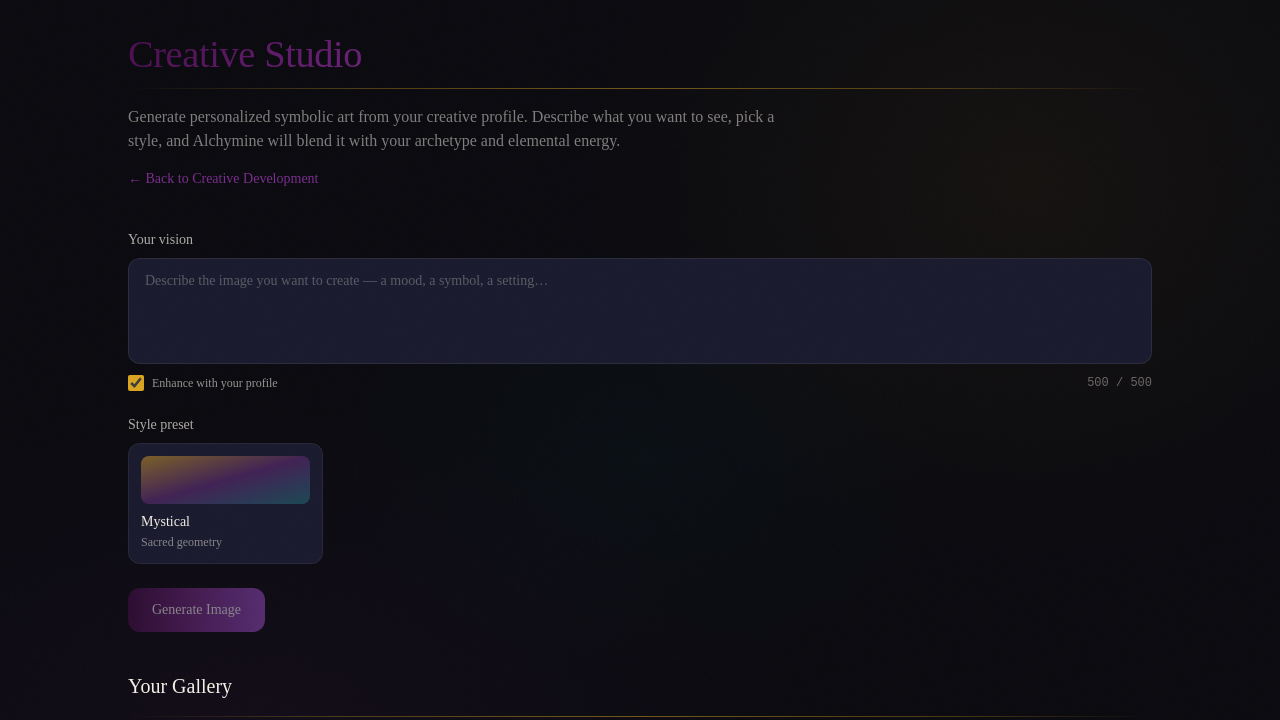
Test case: CreativeStudioPage daily cap › shows the cap message rather than a raw error
Replace the text in the text box labelled "Your vision" with "a quiet forest": x=640, y=311 [128, 258, 1152, 364]
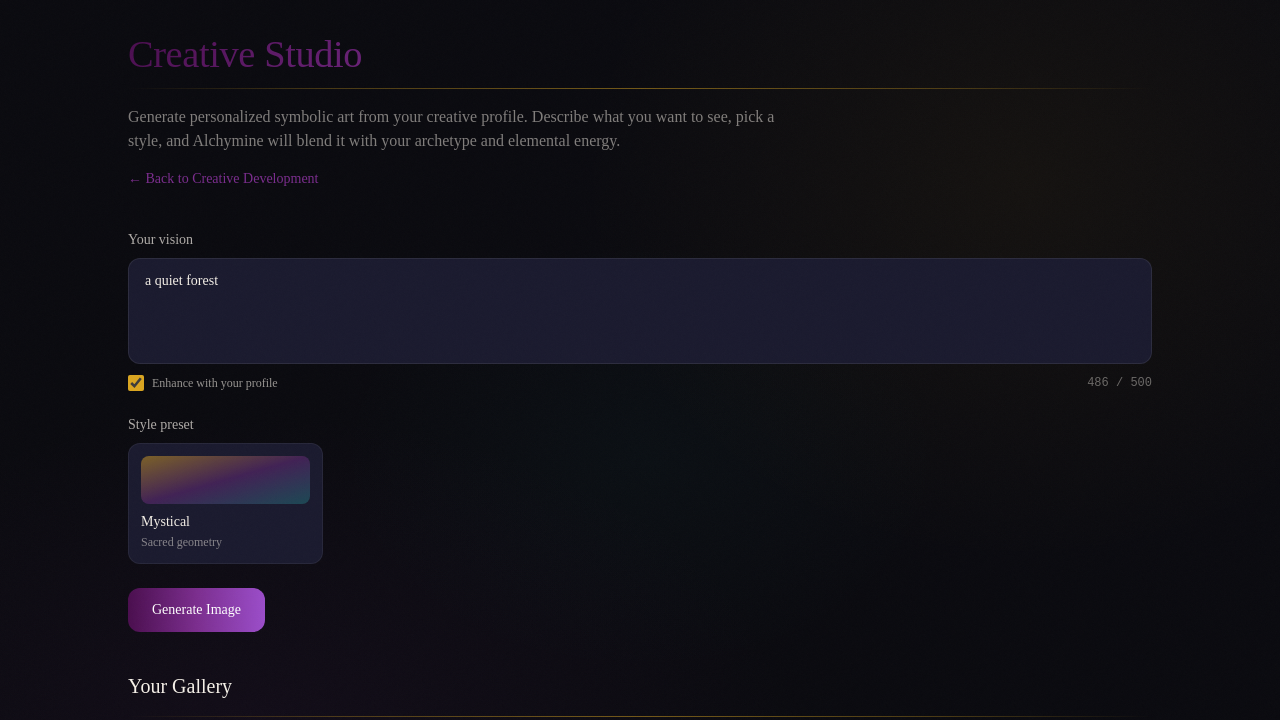
Click the button "Generate Image": x=196, y=610 [128, 588, 265, 632]
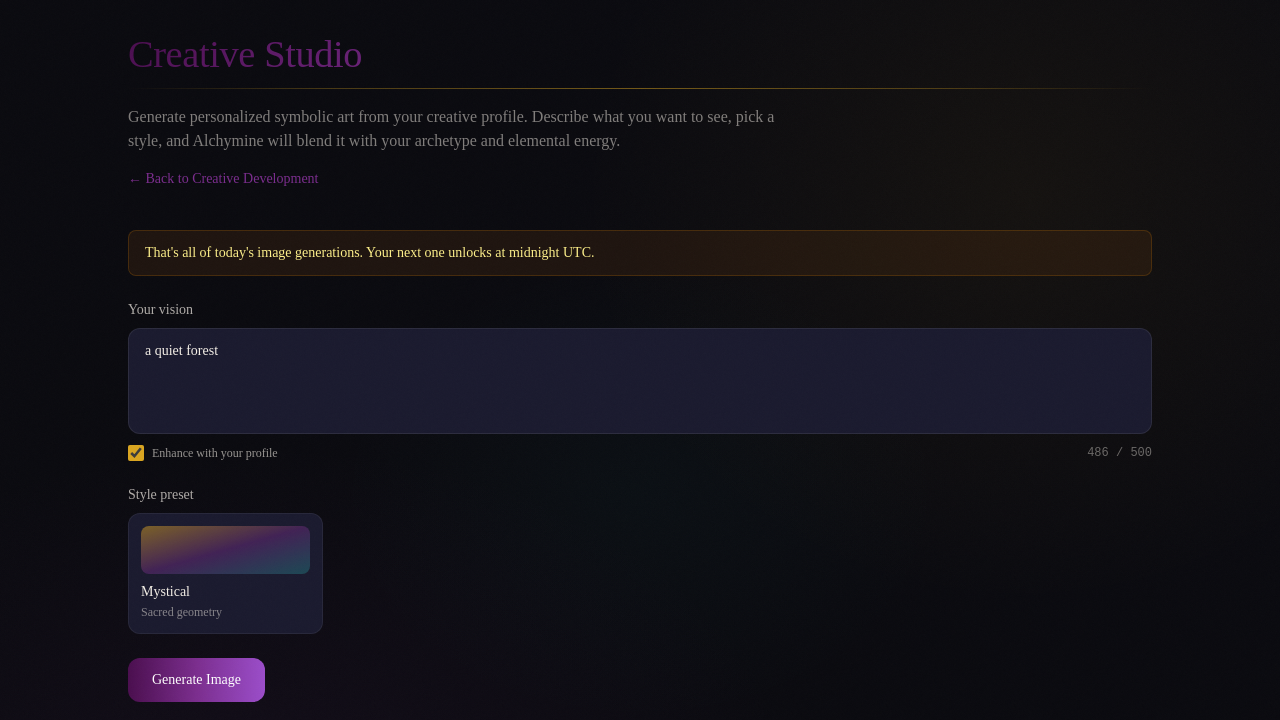
Now the text "That's all of today's image generations. Your next one unlocks at midnight UTC." is shown, box [128, 230, 1152, 276]
